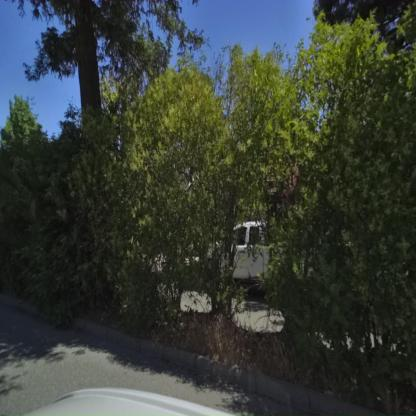car: (218, 212, 281, 322)
